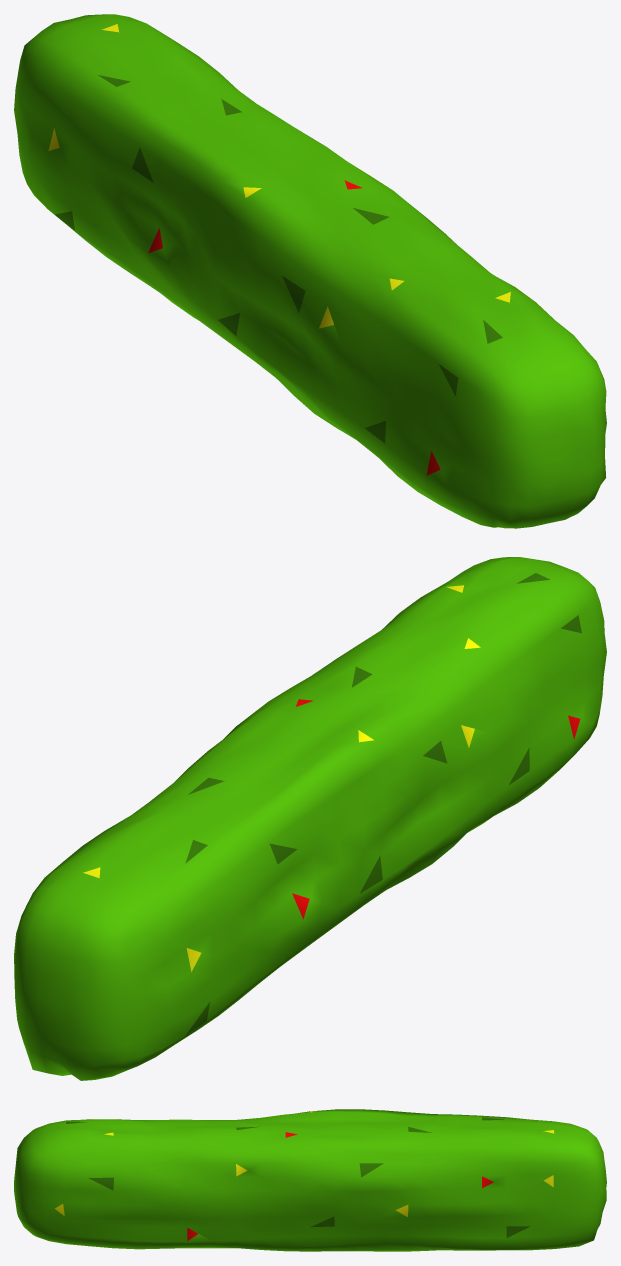
Rendered from GardenShrub.glb.
The picture shows the model from 3 angles, top to bottom: view 1: azimuth 30°, elevation 25°; view 2: azimuth 150°, elevation 25°; view 3: azimuth 270°, elevation 25°; orthographic projection. The views are drawn at different scales.
Visible parts, largest first — view 1: GardenShrub; view 2: GardenShrub; view 3: GardenShrub.
Boxes of the visible parts, <box> form: GardenShrub: <box>14,14,606,528</box>; GardenShrub: <box>14,557,606,1080</box>; GardenShrub: <box>14,1109,606,1251</box>.
Bounding box in the file's own units: 1.84 × 2.24 × 10.06.
Materials: 1 (1 with a texture image).
